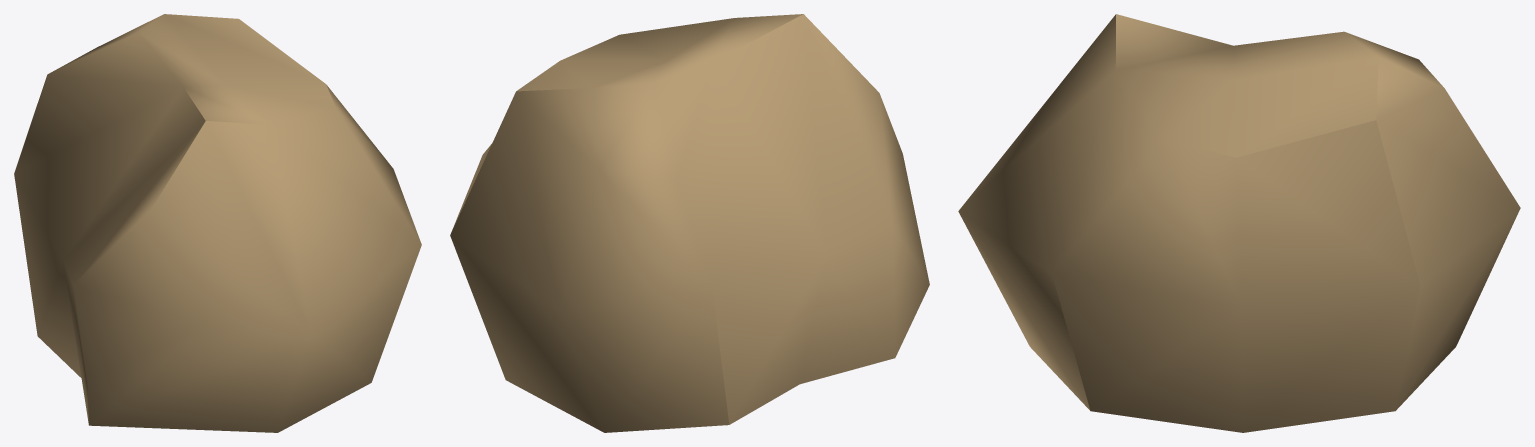
File: StoneC.fbx
3 renders of one model, left to right at view 1: azimuth 30°, elevation 25°; view 2: azimuth 150°, elevation 25°; view 3: azimuth 270°, elevation 25°, orthographic. The views are drawn at different scales.
Parts seen in each view (by area): view 1: StoneC; view 2: StoneC; view 3: StoneC.
Boxes of the visible parts, x1,y1,x2,y2 form: StoneC: (14,14,421,432); StoneC: (450,14,929,432); StoneC: (958,14,1520,432).
Size of the model in its own units: 1.5 by 1.15 by 1.84.
